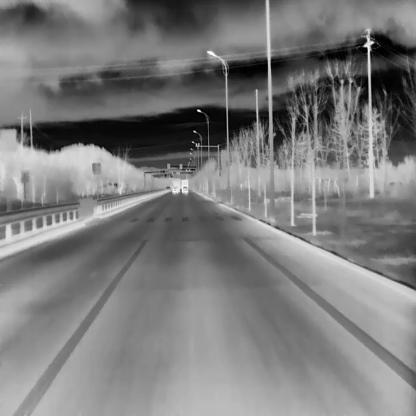car: (182, 185, 187, 193), (172, 187, 178, 192)
truck: (173, 180, 179, 190), (182, 180, 187, 190)
